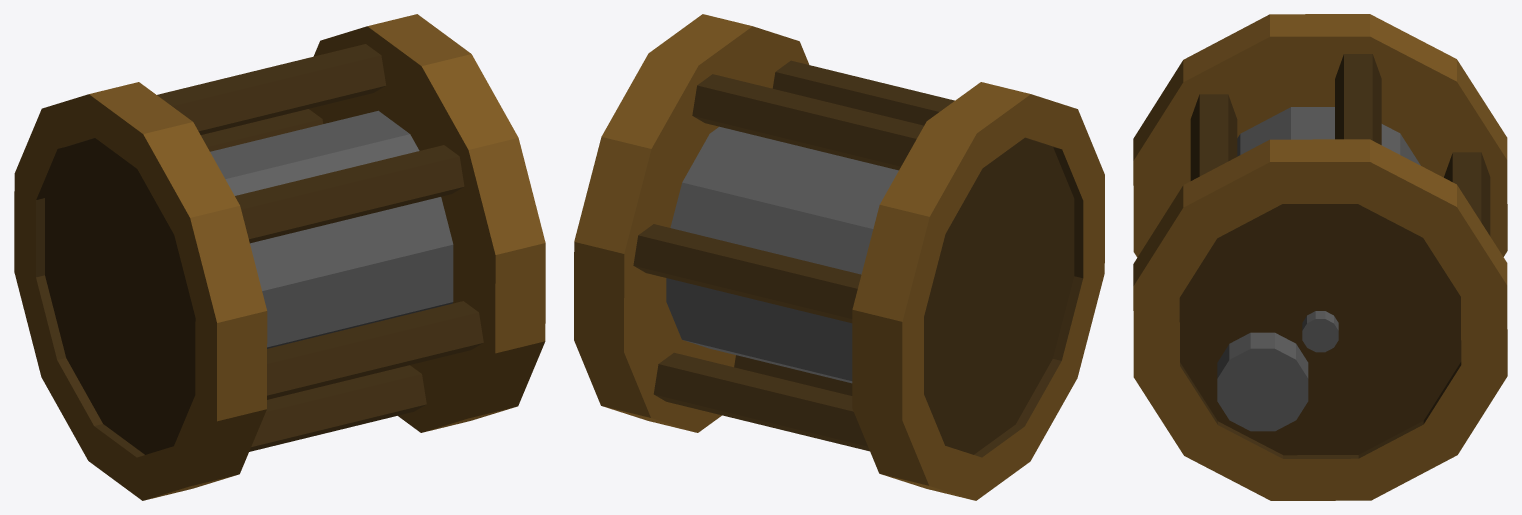
Rendered from Spool.fbx.
3 renders of one model, left to right at view 1: azimuth 30°, elevation 25°; view 2: azimuth 150°, elevation 25°; view 3: azimuth 270°, elevation 25°, orthographic. The views are drawn at different scales.
Visible parts, largest first — view 1: Spool; view 2: Spool; view 3: Spool.
Boxes of the visible parts, bbox=[...] form: Spool: bbox=[14, 14, 545, 500]; Spool: bbox=[574, 14, 1104, 500]; Spool: bbox=[1133, 14, 1507, 500].
Bounding box in the file's own units: 7.86 × 7.76 × 7.76.
